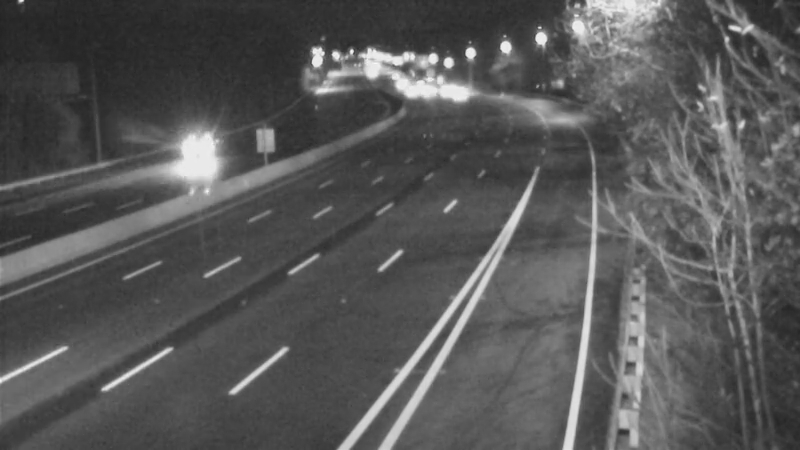vehicle: (432, 66, 482, 116), (388, 68, 438, 118), (165, 115, 215, 165)
